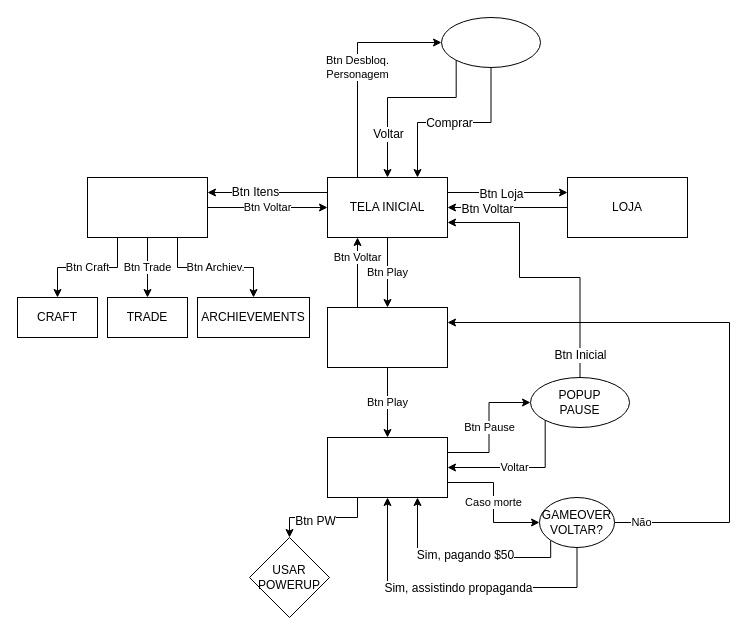
This 755x635 diagram has some shape labels left out. Each missing label, with the box of its shape:
DESEJA COMPRAR?: (440, 16, 540, 68)
ITENS: (86, 176, 208, 238)
JOGO: (326, 436, 448, 498)
SELEÇÃO DE MAPA: (326, 306, 448, 368)
